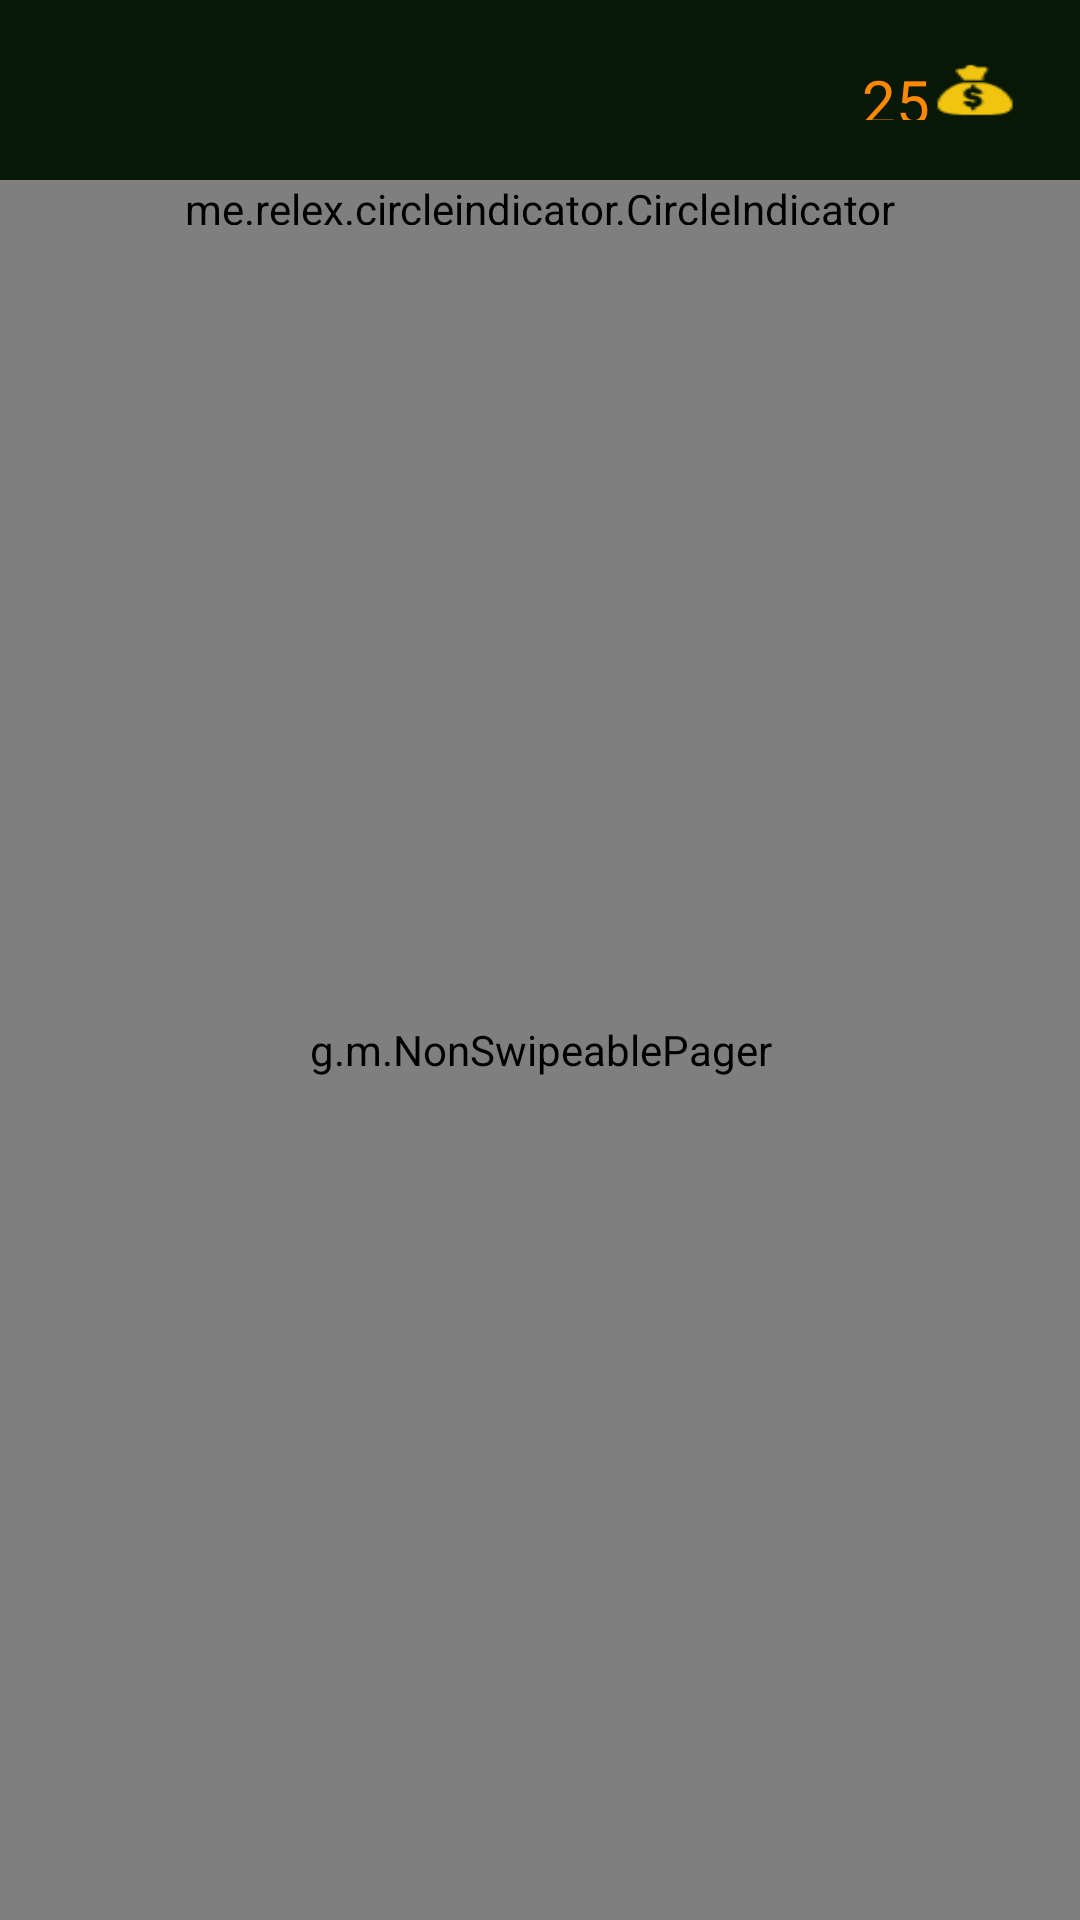

Where icons sit on this 1080 x 1920 app screen, as Rect(x1, y1, x2, y2):
moneyyellow: Rect(937, 64, 1013, 116)
